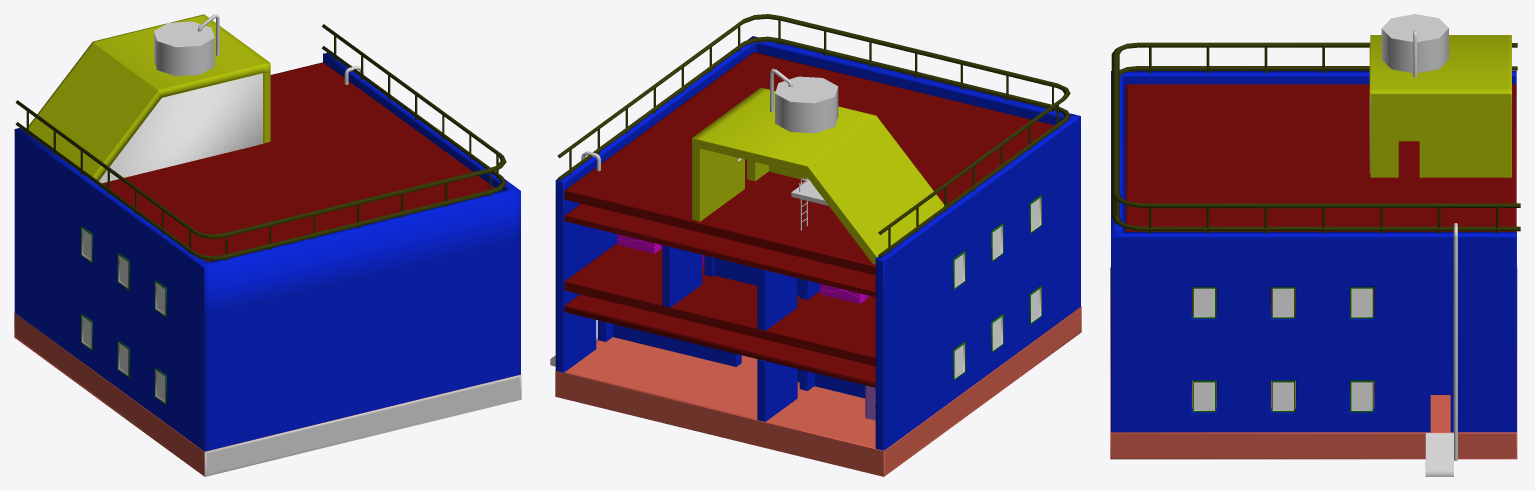
Rendered from ADAM ALE.fbx.
3 renders of one model, left to right at view 1: azimuth 30°, elevation 25°; view 2: azimuth 150°, elevation 25°; view 3: azimuth 270°, elevation 25°, orthographic. The views are drawn at different scales.
Visible parts, largest first — view 1: m43_f90____d32; view 2: m43_f90____d32; view 3: m43_f90____d32.
Part boxes in pixels (x1,y1,x2,y2): m43_f90____d32: [14, 14, 521, 476]; m43_f90____d32: [550, 14, 1081, 476]; m43_f90____d32: [1110, 14, 1520, 476].
Size of the model in its own units: 18.96 by 16.53 by 17.95.
